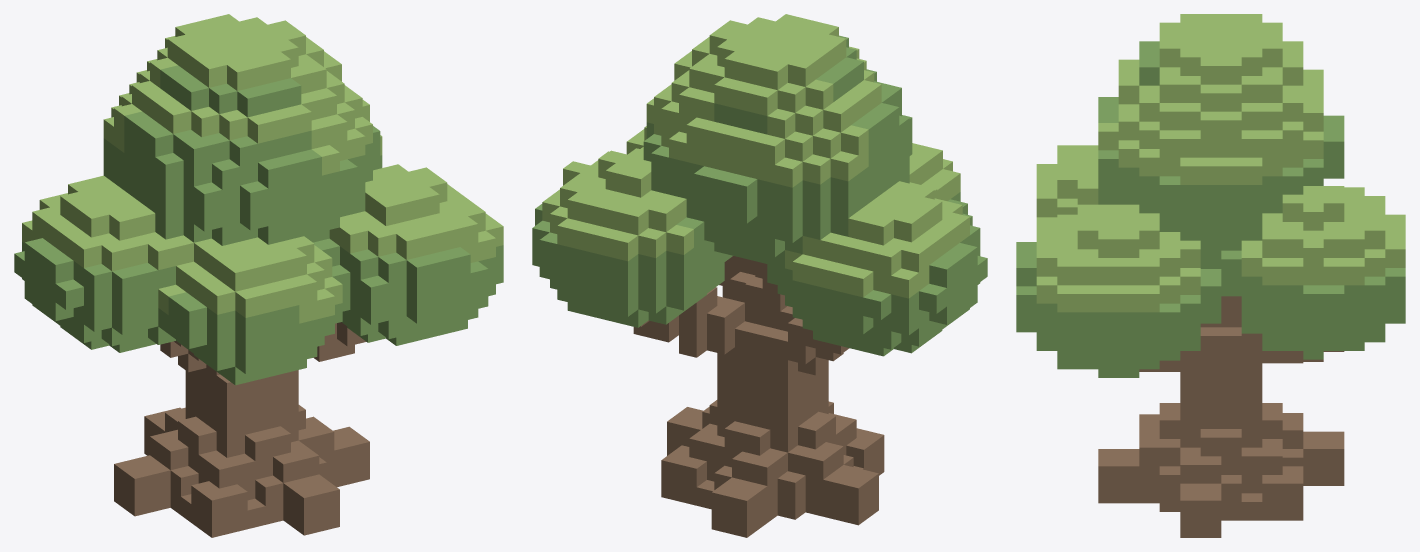
File: tree_2_broad_oak.glb
The picture shows the model from 3 angles, left to right: view 1: azimuth 30°, elevation 25°; view 2: azimuth 150°, elevation 25°; view 3: azimuth 270°, elevation 25°; orthographic projection.
Visible parts, largest first — view 1: tree_oak_var_2_broad_oak_D, tree_oak_var_2_broad_oak_L, tree_oak_var_2_broad_oak_W; view 2: tree_oak_var_2_broad_oak_L, tree_oak_var_2_broad_oak_D, tree_oak_var_2_broad_oak_W; view 3: tree_oak_var_2_broad_oak_L, tree_oak_var_2_broad_oak_D, tree_oak_var_2_broad_oak_W.
Boxes of the visible parts, bbox=[...] form: tree_oak_var_2_broad_oak_D: bbox=[14, 65, 503, 385]; tree_oak_var_2_broad_oak_L: bbox=[22, 14, 503, 323]; tree_oak_var_2_broad_oak_W: bbox=[114, 322, 369, 537]; tree_oak_var_2_broad_oak_L: bbox=[542, 14, 969, 298]; tree_oak_var_2_broad_oak_D: bbox=[532, 35, 987, 356]; tree_oak_var_2_broad_oak_W: bbox=[633, 256, 884, 537]; tree_oak_var_2_broad_oak_L: bbox=[1036, 14, 1405, 312]; tree_oak_var_2_broad_oak_D: bbox=[1016, 41, 1405, 377]; tree_oak_var_2_broad_oak_W: bbox=[1098, 296, 1344, 537].
Size of the model in its own units: 3.15 by 3.6 by 2.85.
